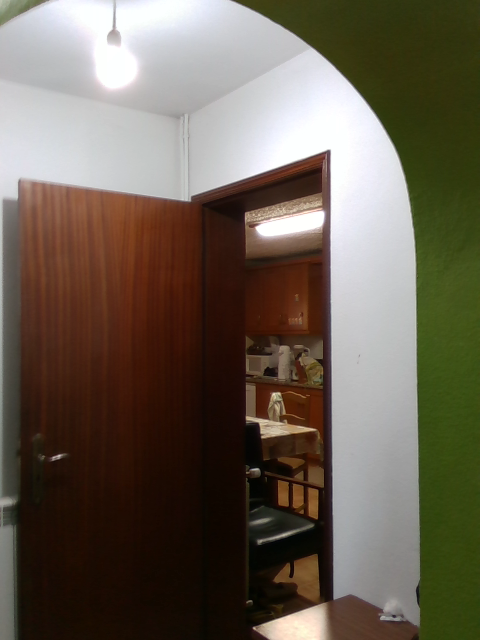open: (11, 153, 335, 636)
